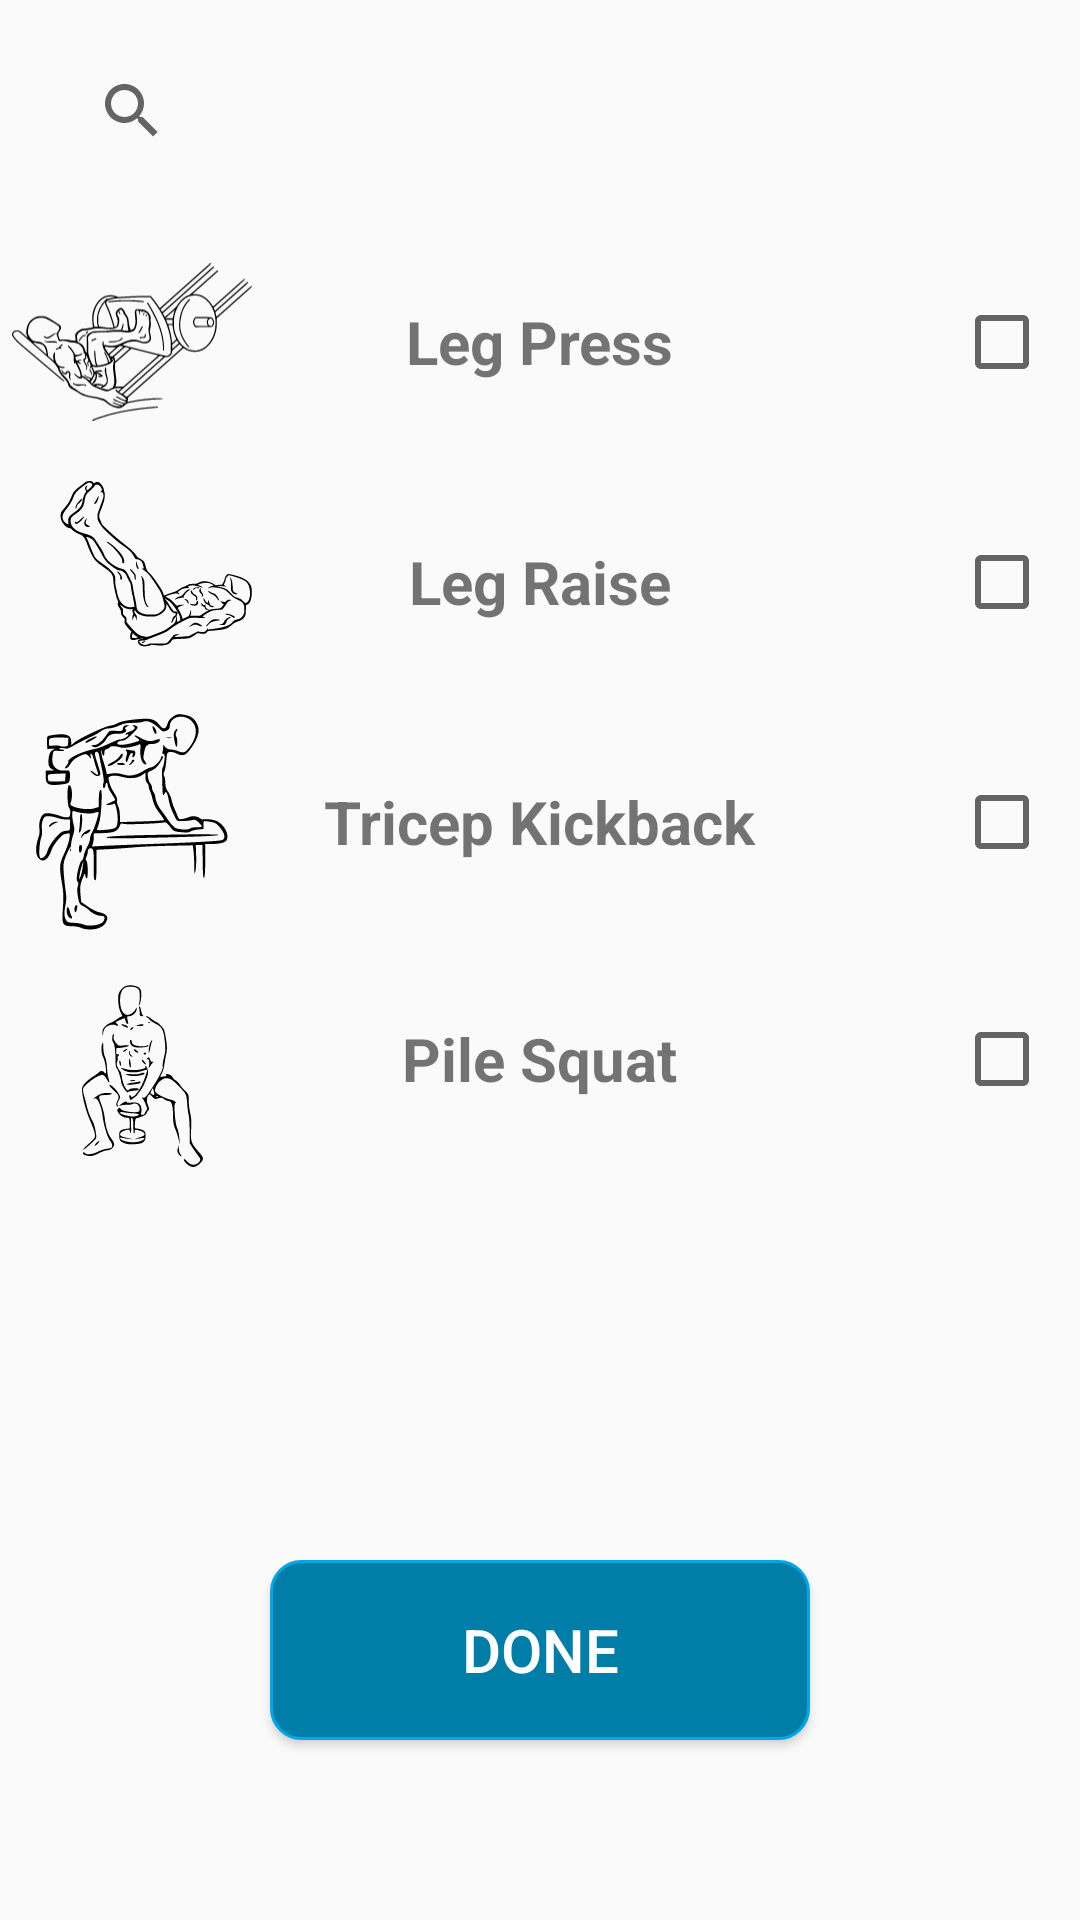

Icon bounding boxes for this 1080*1920 phone screenshot, format (x1, y1, x2, y2):
leg press: (12, 263, 252, 421)
leg raises: (60, 481, 252, 647)
triceps kickback: (36, 714, 228, 930)
